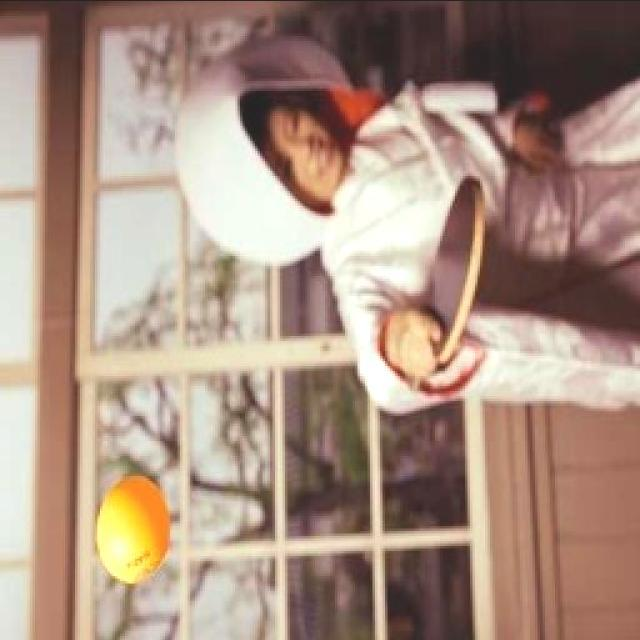oball: (95, 474, 173, 580)
